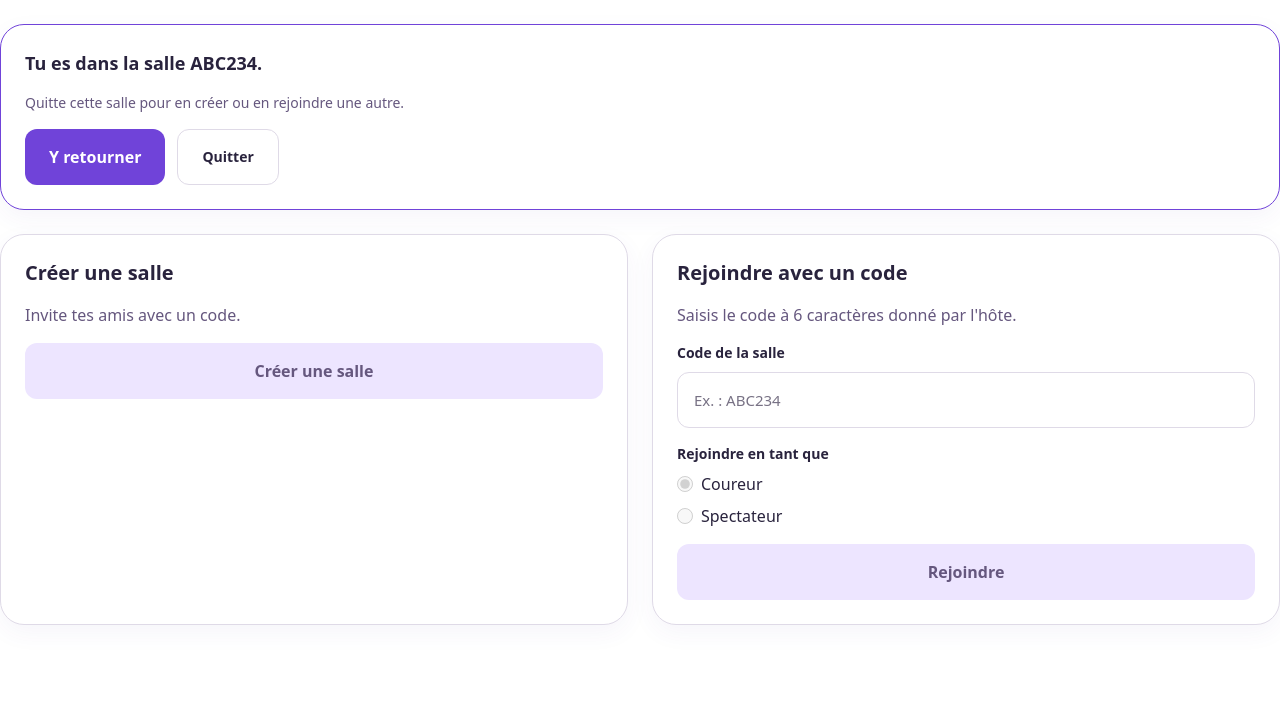
Scenario: opération en cours › pendant un départ, « Rejoindre » est désactivé
Step 1. Click the button "Quitter" → [228, 157], box [177, 129, 279, 185]
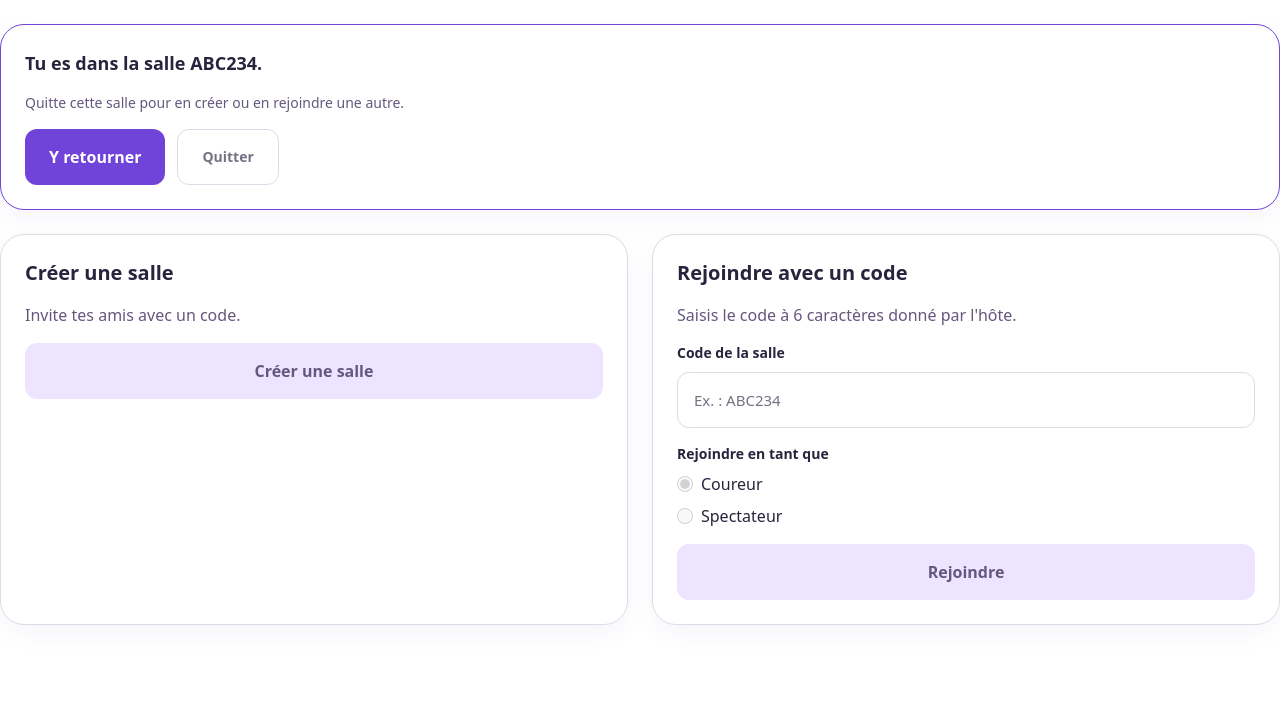
Expected: the button "Rejoindre" is disabled, [677, 544, 1255, 600]
Result: the button "Quitter" is disabled at [177, 129, 279, 185]
